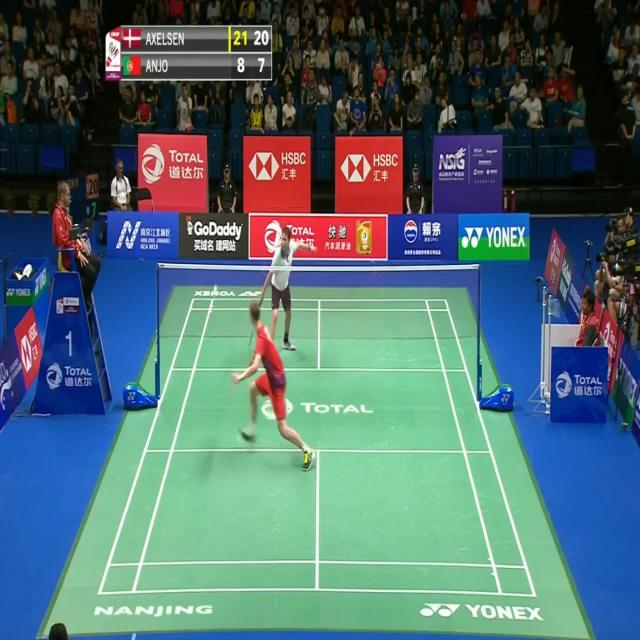Player1: (226, 294, 318, 474)
Player2: (243, 222, 320, 358)
